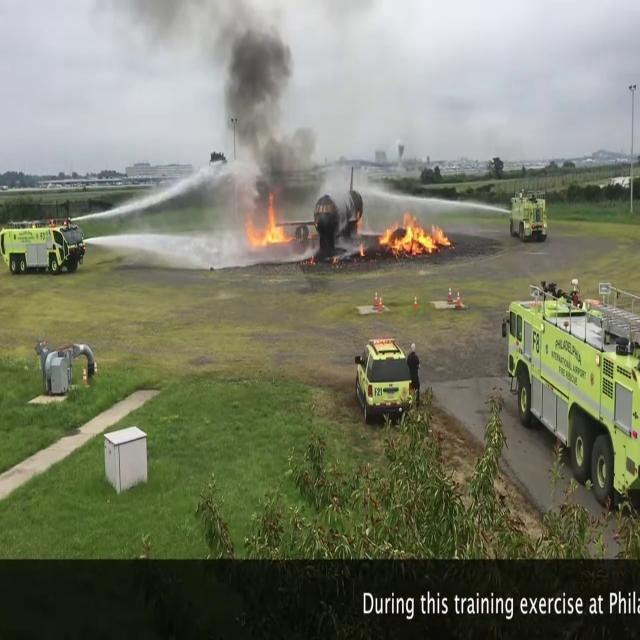Fire: (376, 211, 448, 257), (244, 198, 292, 254)
Smoke: (144, 0, 330, 198)
